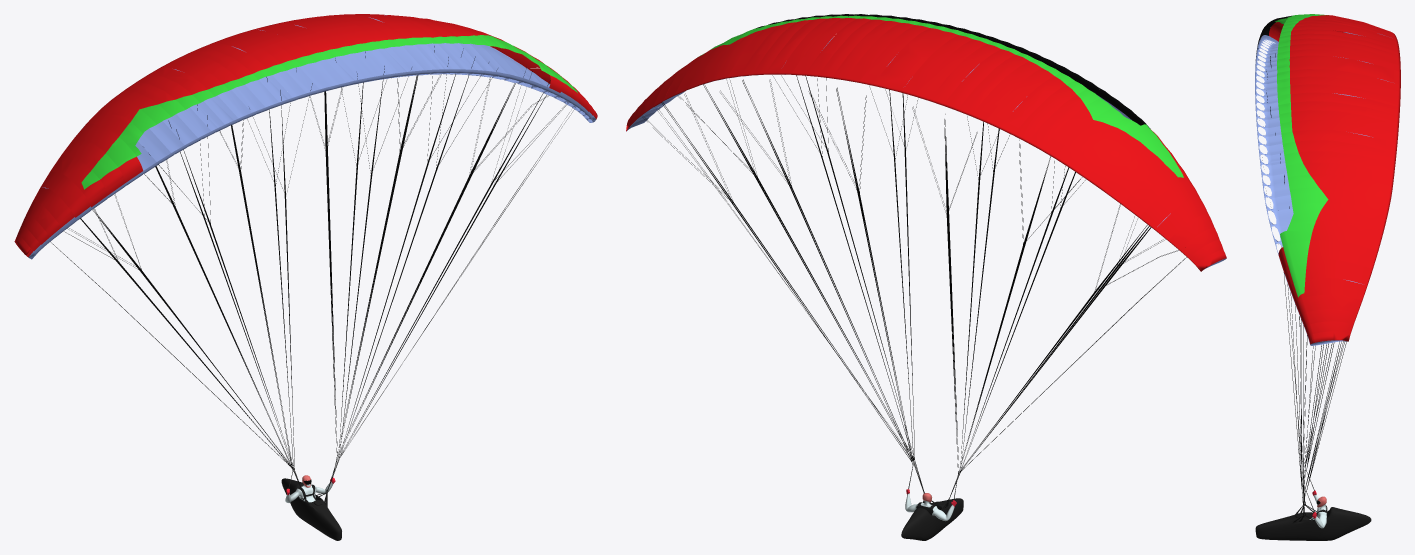
Rendered from glide_model_gin.glb.
The picture shows the model from 3 angles, left to right: view 1: azimuth 30°, elevation 25°; view 2: azimuth 150°, elevation 25°; view 3: azimuth 270°, elevation 25°; orthographic projection. The views are drawn at different scales.
Visible parts, largest first — view 1: SeleteELinhas.005; view 2: SeleteELinhas.005; view 3: SeleteELinhas.005.
Boxes of the visible parts, box(x1,y1,x2,y2) form: SeleteELinhas.005: box(14, 14, 597, 540); SeleteELinhas.005: box(626, 14, 1226, 540); SeleteELinhas.005: box(1255, 14, 1400, 540).
Bounding box in the file's own units: 4.24 × 3.4 × 0.9412.
